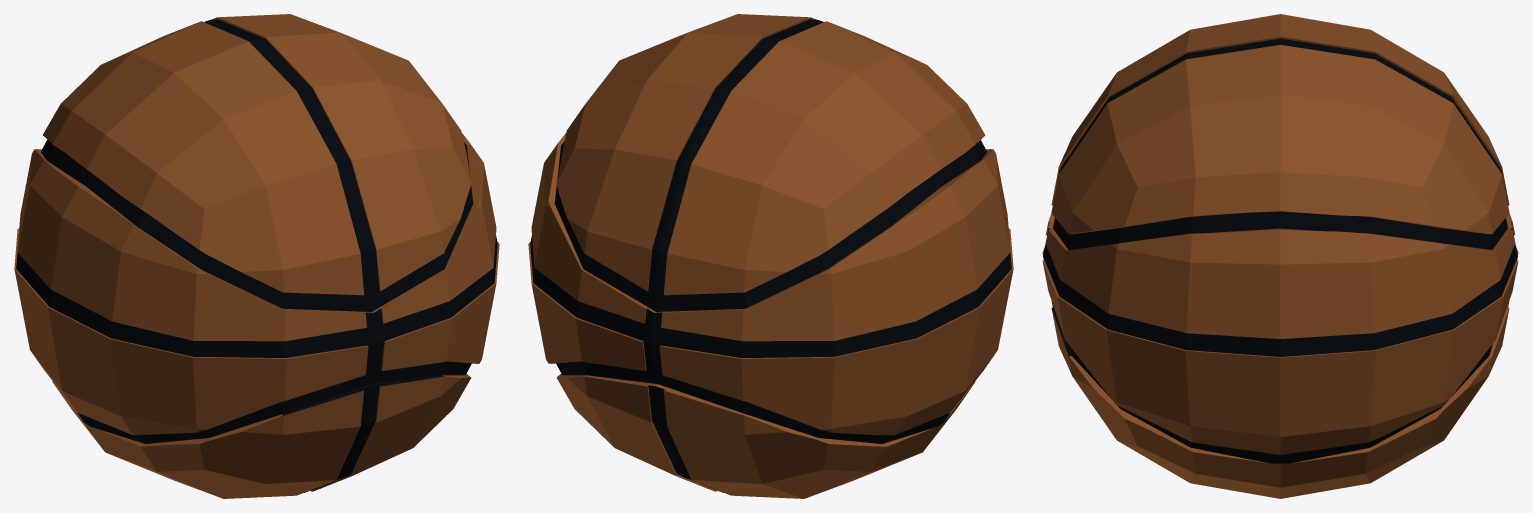
Rendered from BasketBall1.glb.
3 views of the same model, side by side, from view 1: azimuth 30°, elevation 25°; view 2: azimuth 150°, elevation 25°; view 3: azimuth 270°, elevation 25° (orthographic).
Visible parts, largest first — view 1: BasketBall1; view 2: BasketBall1; view 3: BasketBall1.
Part boxes in pixels (<box>): BasketBall1: <box>14,14,499,498</box>; BasketBall1: <box>528,14,1013,498</box>; BasketBall1: <box>1042,14,1518,498</box>.
Size of the model in its own units: 0.4181 by 0.4152 by 0.4152.
